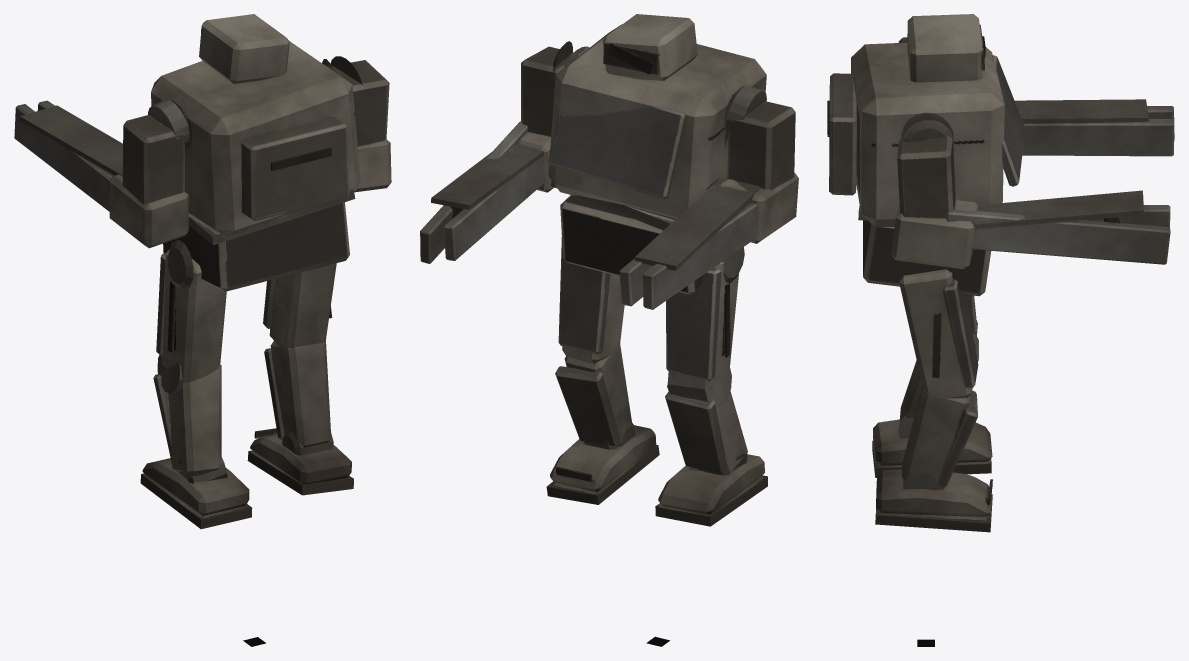
Rendered from ord_marshal_wreck.fbx.
The picture shows the model from 3 angles, left to right: view 1: azimuth 30°, elevation 25°; view 2: azimuth 150°, elevation 25°; view 3: azimuth 270°, elevation 25°; orthographic projection. The views are drawn at different scales.
Parts seen in each view (by area): view 1: torso_bar, base_bar, thighL_bar, shinR_bar, shinL_bar, thighR_bar, footL_bar, footR_bar; view 2: torso_bar, thighL_bar, thighR_bar, shinR_bar, base_bar, footR_bar, footL_bar, shinL_bar; view 3: torso_bar, thighR_bar, footR_bar, shinR_bar, base_bar, footL_bar, shinL_bar.
Part boxes in pixels (x1=…): torso_bar: x1=14, y1=14, x2=391, y2=248; base_bar: x1=163, y1=202, x2=349, y2=291; thighL_bar: x1=156, y1=240, x2=226, y2=393; shinR_bar: x1=264, y1=341, x2=333, y2=455; shinL_bar: x1=153, y1=364, x2=227, y2=483; thighR_bar: x1=263, y1=263, x2=336, y2=354; footL_bar: x1=140, y1=458, x2=252, y2=529; footR_bar: x1=247, y1=428, x2=353, y2=495; torso_bar: x1=420, y1=14, x2=798, y2=309; thighL_bar: x1=666, y1=247, x2=744, y2=407; thighR_bar: x1=558, y1=237, x2=624, y2=363; shinR_bar: x1=555, y1=344, x2=635, y2=449; base_bar: x1=560, y1=195, x2=702, y2=294; footR_bar: x1=546, y1=425, x2=659, y2=504; footL_bar: x1=655, y1=454, x2=767, y2=526; shinL_bar: x1=665, y1=385, x2=747, y2=475; torso_bar: x1=827, y1=14, x2=1174, y2=269; thighR_bar: x1=899, y1=269, x2=978, y2=400; footR_bar: x1=875, y1=469, x2=992, y2=532; shinR_bar: x1=902, y1=385, x2=977, y2=490; base_bar: x1=863, y1=220, x2=991, y2=296; footL_bar: x1=872, y1=419, x2=992, y2=477; shinL_bar: x1=898, y1=337, x2=978, y2=438.
Size of the model in its own units: 339 by 776 by 396.
2 materials, 2 textured.
